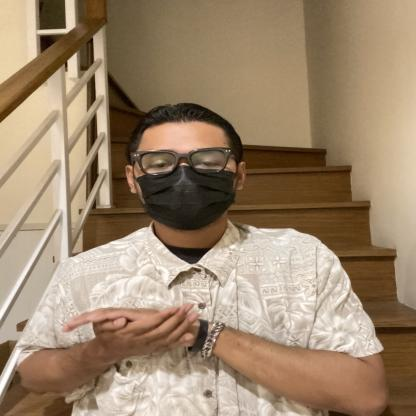Love: (44, 293, 274, 379)
